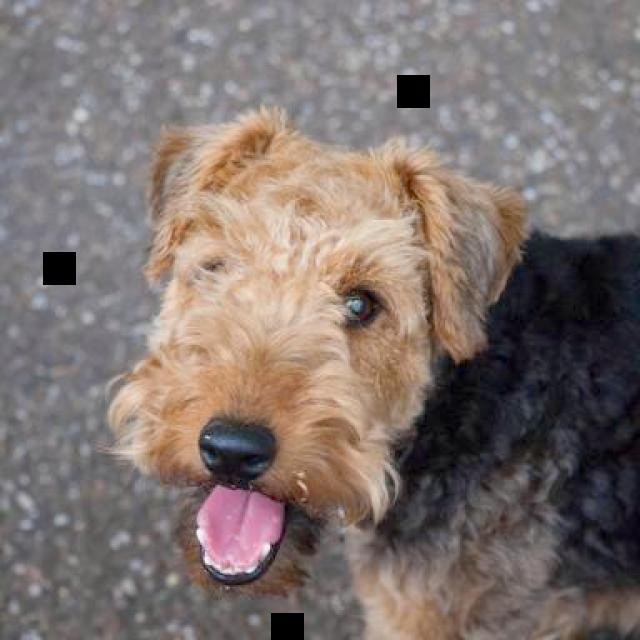adult_dog: (101, 105, 640, 640)
